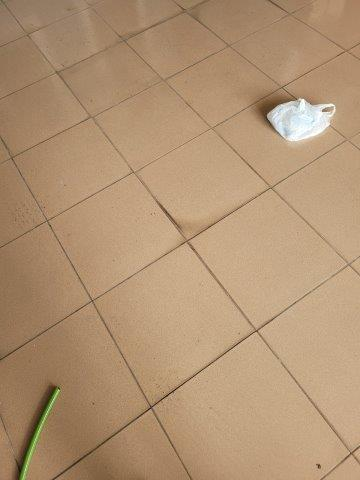plastik: (264, 99, 338, 141)
